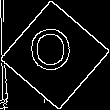O_S: (31, 28, 79, 82)
